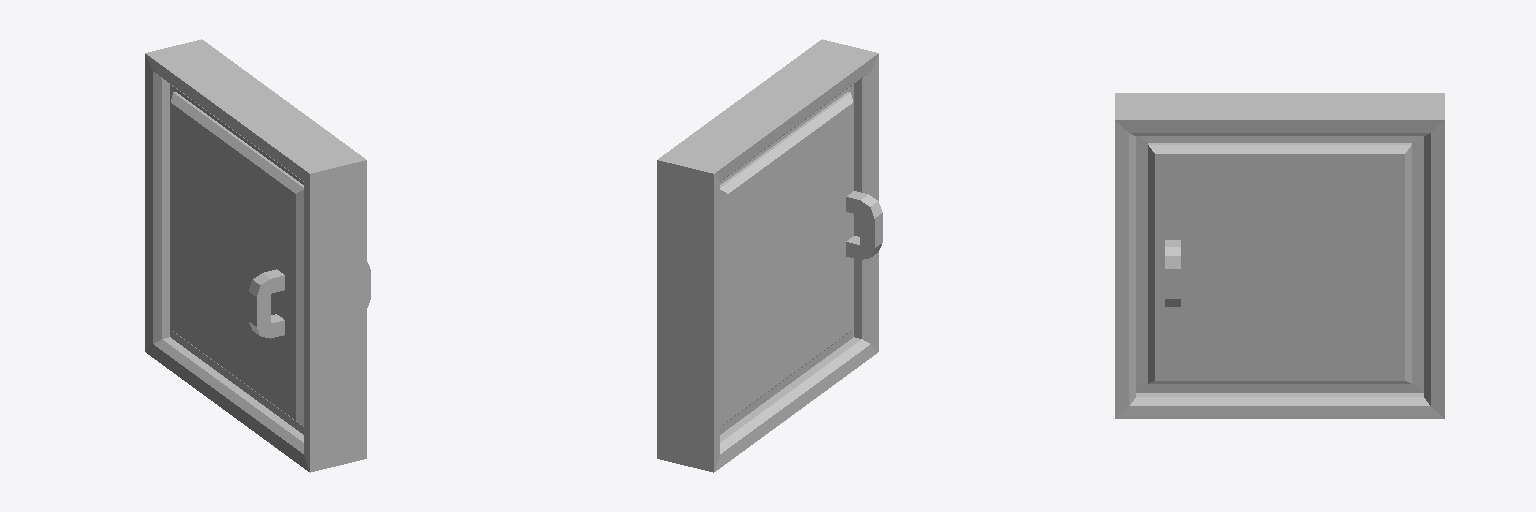
The model's file is verticaldoor.obj.
The picture shows the model from 3 angles: view 1: azimuth 30°, elevation 25°; view 2: azimuth 150°, elevation 25°; view 3: azimuth 270°, elevation 25°; orthographic projection.
Visible parts, largest first — view 1: Circle_Circle.001; view 2: Circle_Circle.001; view 3: Circle_Circle.001.
Part boxes in pixels (x1,y1,x2,y2): Circle_Circle.001: (145,39,370,472); Circle_Circle.001: (657,39,882,472); Circle_Circle.001: (1115,93,1444,418).
Bounding box in the file's own units: 0.8 × 2 × 2.